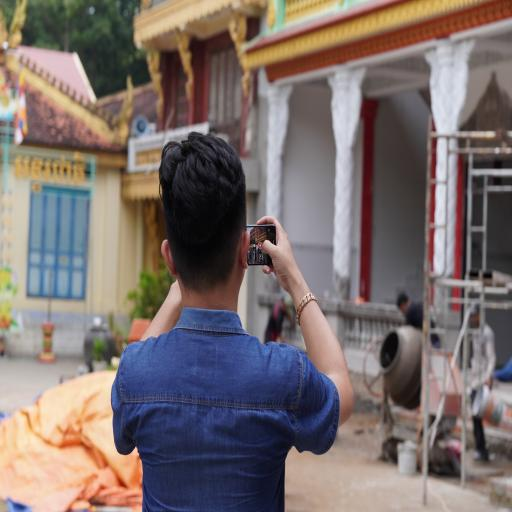ran: (118, 77, 135, 130), (8, 0, 26, 47)
